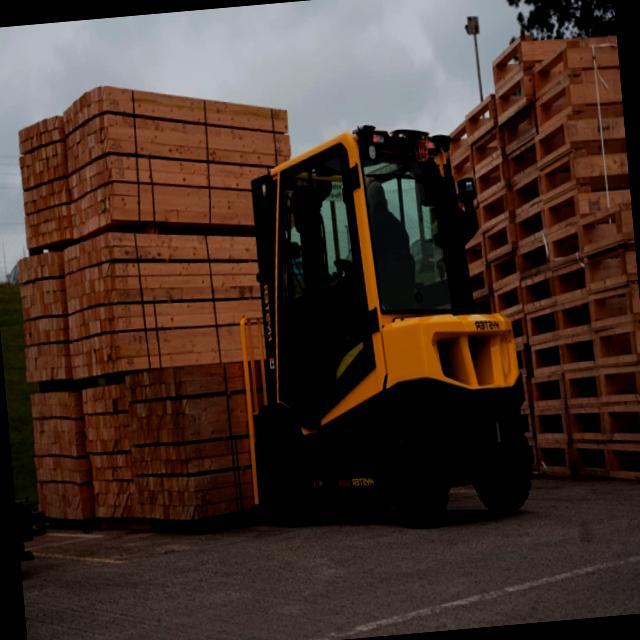driver: (348, 176, 415, 298)
forklift: (200, 116, 553, 550)
